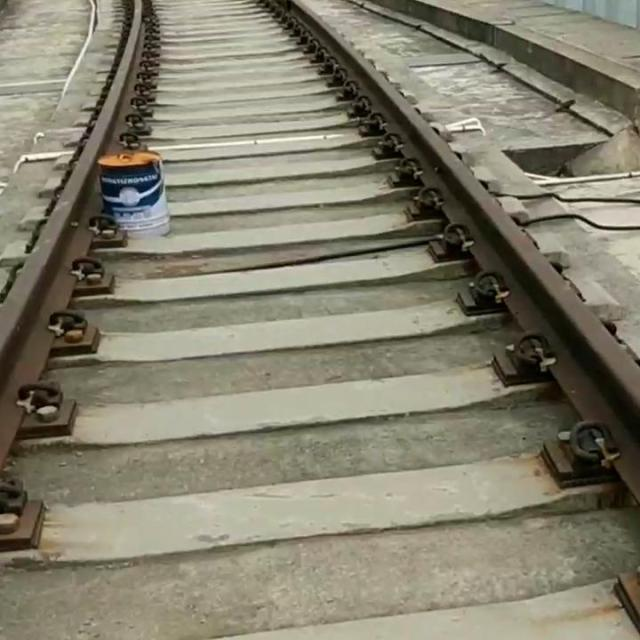rail: (254, 1, 640, 640), (1, 1, 170, 603)
